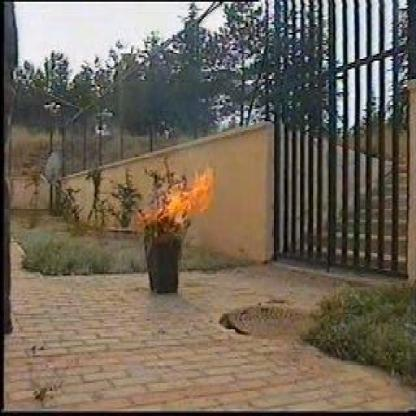foggia-v2-map80-epoch100 - v1 4323: (145, 173, 215, 220)
